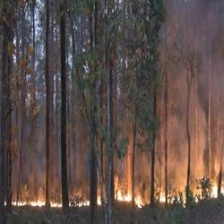fire: (3, 184, 224, 209)
